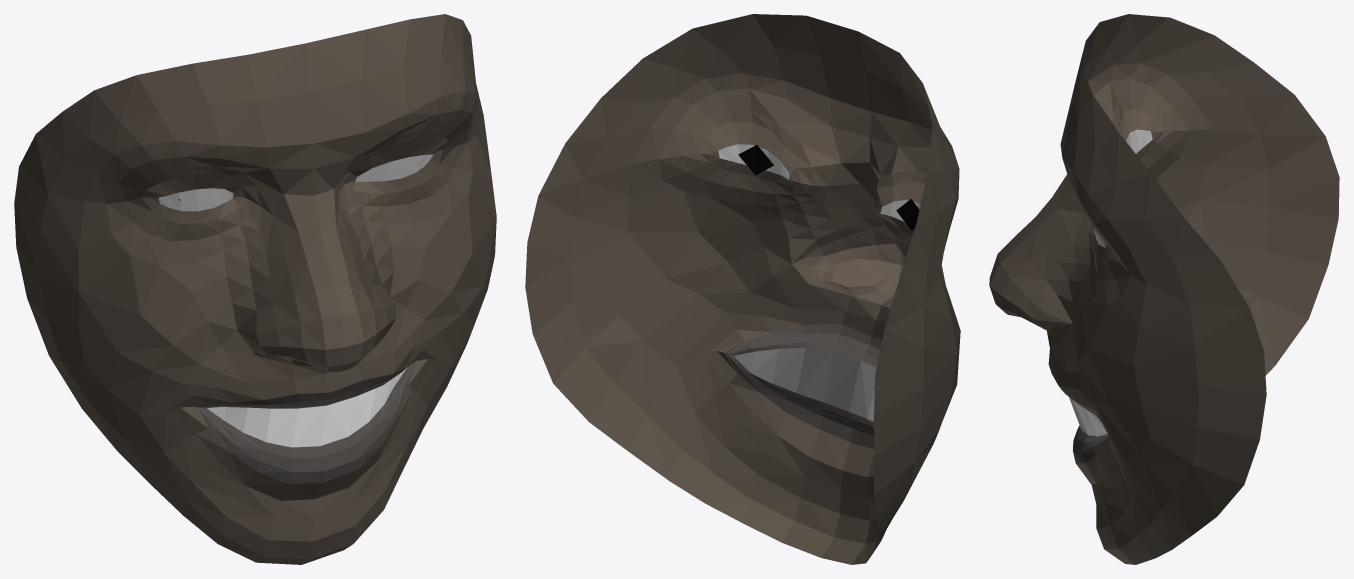
The model's file is IMG_3575.obj.
3 views of the same model, side by side, from view 1: azimuth 30°, elevation 25°; view 2: azimuth 150°, elevation 25°; view 3: azimuth 270°, elevation 25° (orthographic). The views are drawn at different scales.
Visible parts, largest first — view 1: face_model_with_iris; view 2: face_model_with_iris; view 3: face_model_with_iris.
Part boxes in pixels (x1,y1,x2,y2): face_model_with_iris: (14, 14, 496, 564); face_model_with_iris: (525, 14, 960, 564); face_model_with_iris: (989, 14, 1339, 564).
Size of the model in its own units: 0.8117 by 1 by 0.6329.
